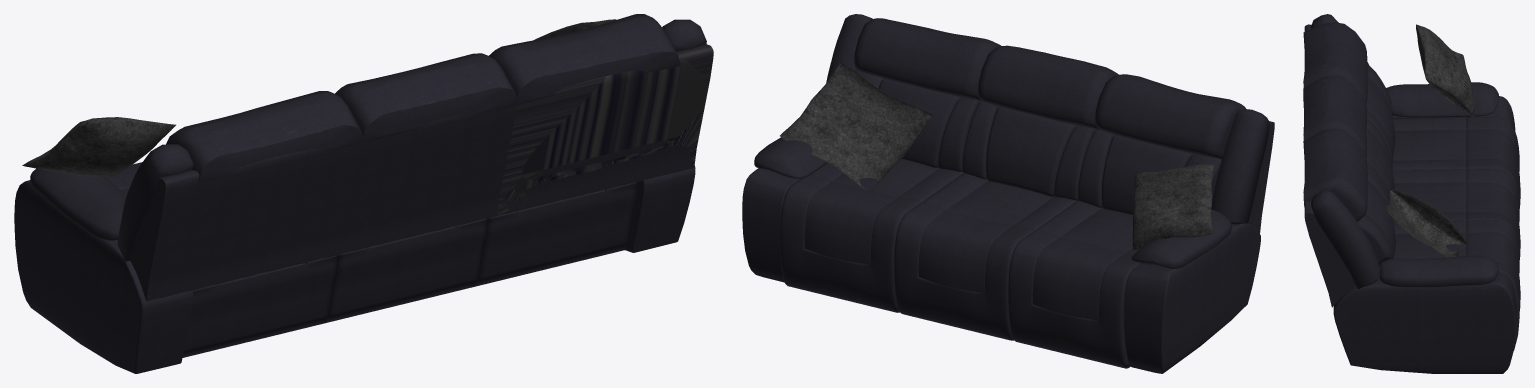
Rendered from sofa.obj.
3 renders of one model, left to right at view 1: azimuth 30°, elevation 25°; view 2: azimuth 150°, elevation 25°; view 3: azimuth 270°, elevation 25°, orthographic. The views are drawn at different scales.
Parts seen in each view (by area): view 1: sofa; view 2: sofa; view 3: sofa.
Part boxes in pixels (box(x1,y1,x2,y2)): sofa: box(14, 14, 713, 373); sofa: box(742, 14, 1274, 373); sofa: box(1303, 14, 1520, 373).
Size of the model in its own units: 16.09 by 6.87 by 7.3.
Materials: 1 (1 with a texture image).
